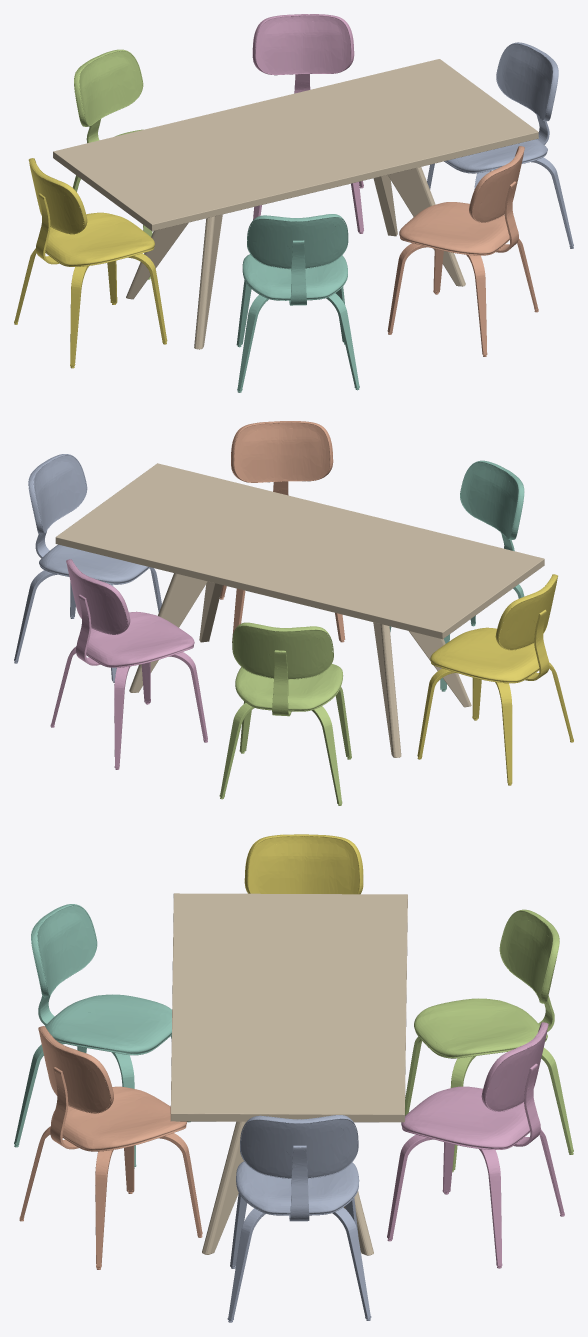
3 views of the same model, one above another, from view 1: azimuth 30°, elevation 25°; view 2: azimuth 150°, elevation 25°; view 3: azimuth 270°, elevation 25° (orthographic). The views are drawn at different scales.
Parts seen in each view (by area): view 1: target_0_6, target_0_0, target_0_5, target_0_1, target_0_3, target_0_2, target_0_4; view 2: target_0_6, target_0_4, target_0_5, target_0_3, target_0_2, target_0_1, target_0_0; view 3: target_0_6, target_0_2, target_0_3, target_0_1, target_0_4, target_0_0, target_0_5.
Part boxes in pixels (left/top/right/bottom): target_0_6: left=53, top=59, right=538, bottom=349; target_0_0: left=236, top=214, right=359, bottom=392; target_0_5: left=14, top=158, right=167, bottom=368; target_0_1: left=387, top=146, right=538, bottom=356; target_0_3: left=252, top=14, right=363, bottom=233; target_0_2: left=427, top=42, right=573, bottom=248; target_0_4: left=72, top=49, right=152, bottom=279; target_0_6: left=55, top=463, right=544, bottom=757; target_0_4: left=219, top=622, right=351, bottom=805; target_0_5: left=417, top=574, right=573, bottom=785; target_0_3: left=50, top=559, right=207, bottom=769; target_0_2: left=14, top=454, right=161, bottom=682; target_0_1: left=219, top=421, right=345, bottom=642; target_0_0: left=389, top=460, right=524, bottom=691; target_0_6: left=170, top=893, right=407, bottom=1255; target_0_2: left=227, top=1115, right=371, bottom=1322; target_0_3: left=387, top=1022, right=564, bottom=1268; target_0_1: left=19, top=1026, right=202, bottom=1269; target_0_4: left=405, top=909, right=573, bottom=1172; target_0_0: left=14, top=904, right=190, bottom=1168; target_0_5: left=244, top=834, right=363, bottom=894.
Bounding box in the file's own units: 0.981 × 0.3233 × 0.8046.
